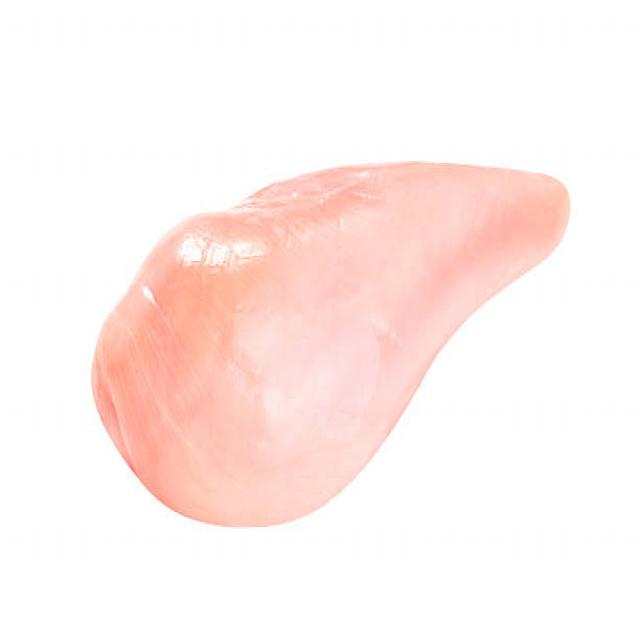Chicken: (51, 146, 580, 553)
